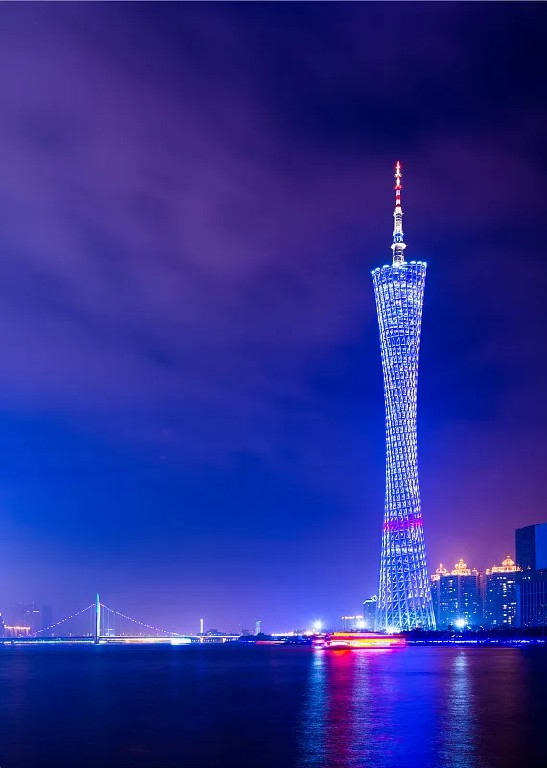Canton: (366, 159, 443, 628)
